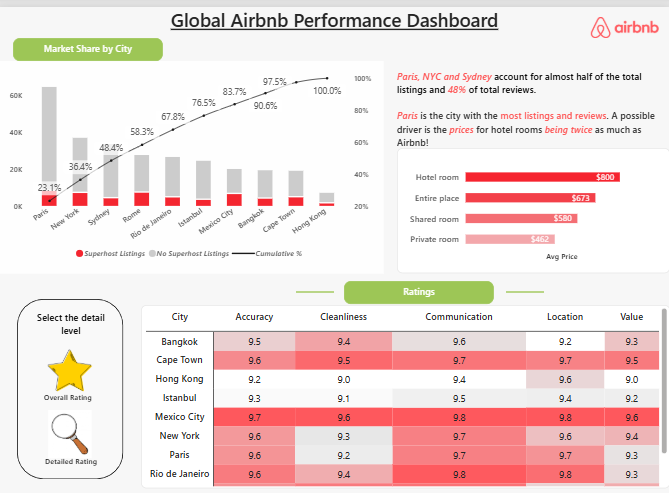

This screenshot's page, from the dashboard's own definition file:
{"tool":"powerbi","page":{"name":"Ratings","canvas":[960,720],"ordinal":1},"visuals":[{"type":"textbox","box":[235,0,490,57],"z":0},{"type":"image","box":[842.5,13.8,105,30],"z":1000},{"type":"textbox","box":[21.7,44.8,213.8,32.5],"z":2000},{"type":"textbox","box":[99.8,99.8,79.5,96.9],"z":3000},{"type":"lineStackedColumnComboChart","fields":{"Category":["Listings.city"],"Y":["Listings.Superhost Listings","Listings.No Superhost Listings"],"Y2":["Listings.Cumulative %"]},"box":[0,76.6,550.8,303.6],"z":4000},{"type":"barChart","fields":{"Category":["Listings.room_type"],"Y":["Listings.Avg Price"]},"box":[570,201.4,390.4,179.3],"z":5000},{"type":"columnChart","fields":{"Category":["Listings.city"],"Y":["Reviews.Avg Rating"]},"box":[203.9,435.2,744.6,240],"z":6000},{"type":"textbox","box":[494.5,391.8,214.3,32.9],"z":6001},{"type":"shape","box":[725.8,383.1,54.3,48.6],"z":6002},{"type":"shape","box":[425.1,383.1,54.3,48.6],"z":6003},{"type":"image","box":[65.1,482.9,70.8,73.7],"z":6004,"group":"g1"},{"type":"image","box":[65.1,575.4,73.7,69.4],"z":6005,"group":"g2"},{"type":"shape","box":[27.5,417.8,151.8,257.3],"z":6006},{"type":"pivotTable","fields":{"Rows":["Listings.city"],"Values":["Listings.Accuracy","Listings.Cleanliness","Listings.Communication","Listings.Location","Listings.Value"]},"box":[203.9,425.1,756.1,261.7],"z":6007},{"type":"textbox","box":[49.2,432.3,111.3,63.6],"z":6008},{"type":"textbox","box":[65.1,545.1,76.6,21.7],"z":6009,"group":"g1"},{"type":"textbox","box":[66.5,636.1,79.5,21.7],"z":6010,"group":"g2"},{"type":"group","id":"g1","title":"Group 1","box":[65.1,482.9,76.6,83.9],"z":6011},{"type":"group","id":"g2","title":"Group 2","box":[65.1,575.4,81,82.4],"z":6012},{"type":"textbox","box":[569.6,88.2,378.8,128.7],"z":6013}]}

Visuals, with their boxes in screenshot pixels (x1, y1, x2, y2), scaled from the page's 960x720 canvas onto the 669x493 screenshot:
textbox: <bbox>164, 0, 505, 39</bbox>
image: <bbox>587, 9, 660, 30</bbox>
textbox: <bbox>15, 31, 164, 53</bbox>
textbox: <bbox>70, 68, 125, 135</bbox>
lineStackedColumnComboChart - Listings.city x Listings.Superhost Listings: <bbox>0, 52, 384, 260</bbox>
barChart - Listings.room_type x Listings.Avg Price: <bbox>397, 138, 668, 261</bbox>
columnChart - Listings.city x Reviews.Avg Rating: <bbox>142, 298, 661, 462</bbox>
textbox: <bbox>345, 268, 494, 291</bbox>
shape: <bbox>506, 262, 544, 296</bbox>
shape: <bbox>296, 262, 334, 296</bbox>
image: <bbox>45, 331, 95, 381</bbox>
image: <bbox>45, 394, 97, 442</bbox>
shape: <bbox>19, 286, 125, 462</bbox>
pivotTable - Listings.city x Listings.Accuracy: <bbox>142, 291, 668, 470</bbox>
textbox: <bbox>34, 296, 112, 340</bbox>
textbox: <bbox>45, 373, 99, 388</bbox>
textbox: <bbox>46, 436, 102, 450</bbox>
"Group 1" group: <bbox>45, 331, 99, 388</bbox>
"Group 2" group: <bbox>45, 394, 102, 450</bbox>
textbox: <bbox>397, 60, 661, 149</bbox>
